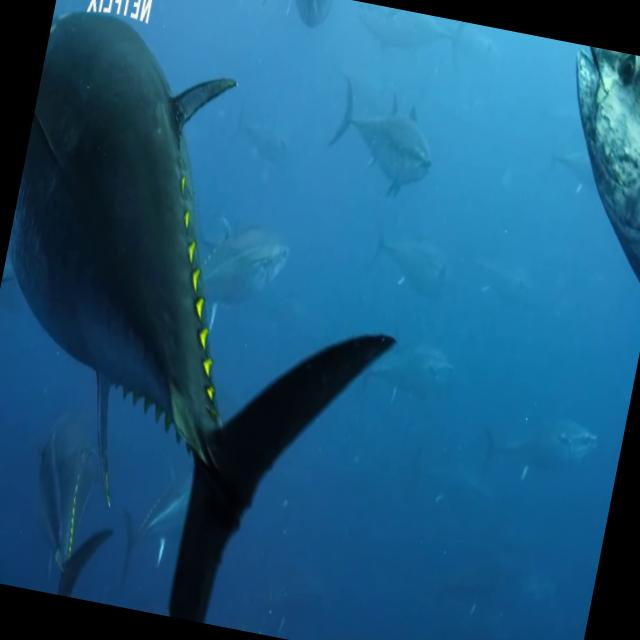fish: (0, 4, 393, 635)
